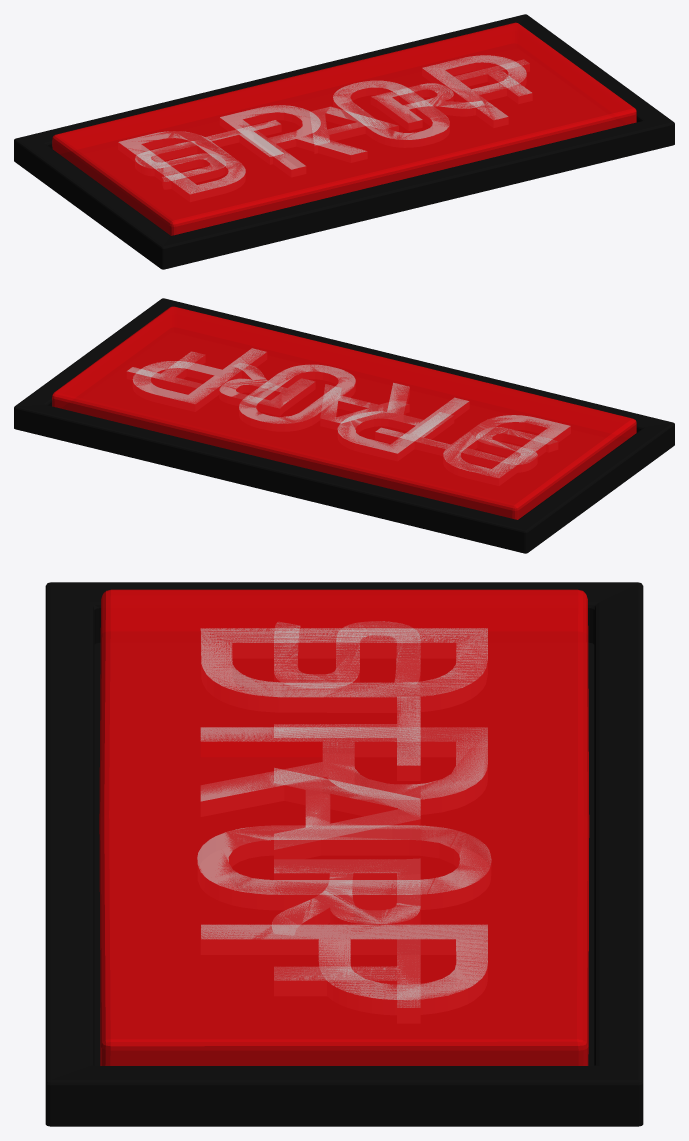
Rendered from buttons.glb.
3 views of the same model, one above another, from view 1: azimuth 30°, elevation 25°; view 2: azimuth 150°, elevation 25°; view 3: azimuth 270°, elevation 25° (orthographic). The views are drawn at different scales.
Visible parts, largest first — view 1: button, button-start, button-empty; view 2: button, button-empty, button-start; view 3: button, button-empty, button-start.
Part boxes in pixels (left/top/right/bottom): button: left=14, top=14, right=674, bottom=269; button-start: left=57, top=23, right=632, bottom=235; button-empty: left=52, top=23, right=636, bottom=235; button: left=14, top=298, right=674, bottom=553; button-empty: left=52, top=307, right=636, bottom=519; button-start: left=54, top=307, right=631, bottom=519; button: left=45, top=582, right=643, bottom=1126; button-empty: left=99, top=590, right=588, bottom=1065; button-start: left=94, top=590, right=594, bottom=1065.
Bounding box in the file's own units: 0.121 × 0.00696 × 0.061.
